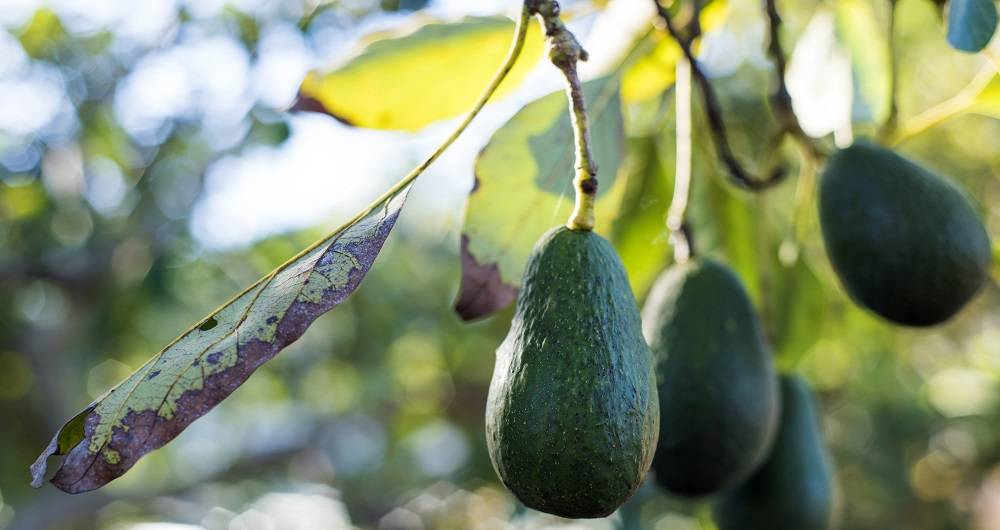unfit_avocado: (482, 208, 666, 515), (787, 123, 1000, 320), (656, 255, 769, 499)
